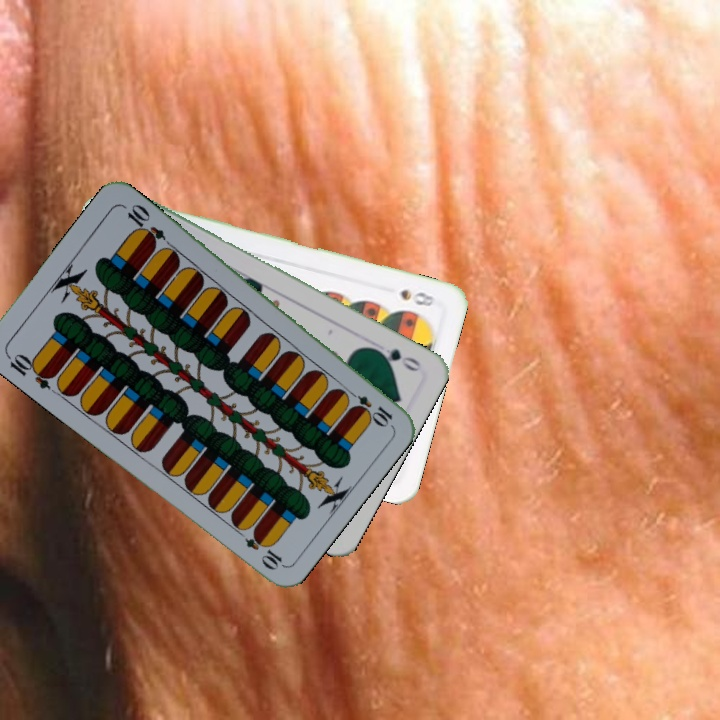E10: (2, 349, 58, 392), (342, 385, 395, 428)
GO: (368, 344, 424, 374)
S8: (396, 285, 438, 309)
